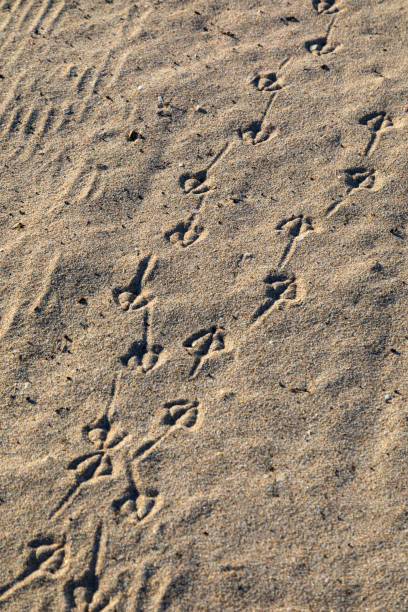animal_foot_print: (51, 383, 126, 516), (63, 522, 119, 611), (0, 536, 66, 601), (133, 399, 198, 458), (111, 460, 158, 521), (120, 309, 162, 373), (131, 562, 184, 611), (325, 167, 375, 216), (179, 143, 228, 193), (112, 255, 156, 310), (251, 272, 297, 322), (183, 326, 224, 377), (237, 91, 276, 144), (164, 198, 205, 247), (275, 214, 313, 266), (359, 111, 392, 154), (305, 18, 335, 55), (344, 167, 374, 193), (249, 71, 283, 91), (250, 72, 282, 91), (312, 0, 338, 13)
